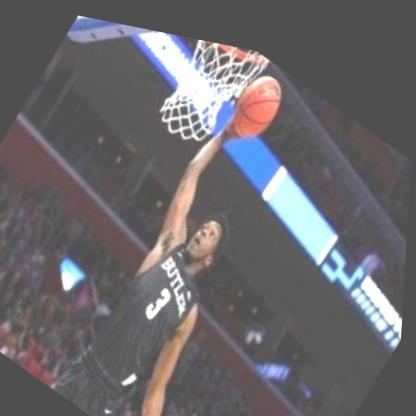basketball: (216, 45, 301, 152)
